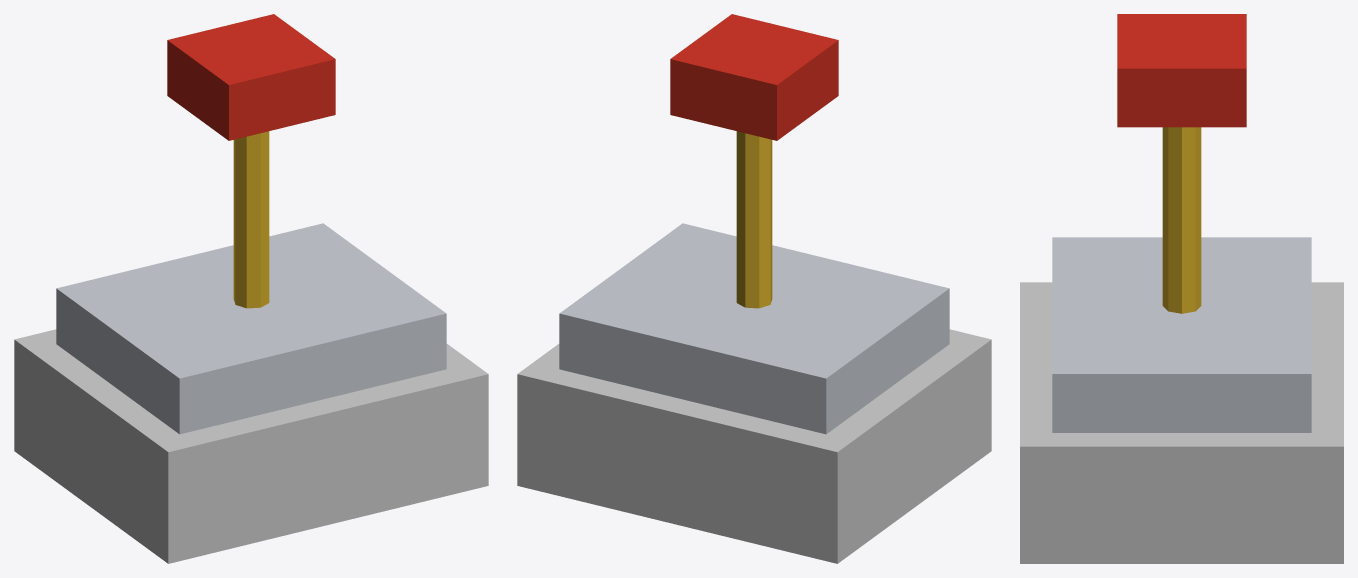
The model's file is guidance_coordinate.obj.
3 renders of one model, left to right at view 1: azimuth 30°, elevation 25°; view 2: azimuth 150°, elevation 25°; view 3: azimuth 270°, elevation 25°, orthographic. The views are drawn at different scales.
Visible parts, largest first — view 1: guidance_coordinate; view 2: guidance_coordinate; view 3: guidance_coordinate.
Part boxes in pixels (<box>): guidance_coordinate: <box>14,14,488,563</box>; guidance_coordinate: <box>517,14,991,563</box>; guidance_coordinate: <box>1020,14,1343,563</box>.
Size of the model in its own units: 0.24 by 0.3 by 0.2.
